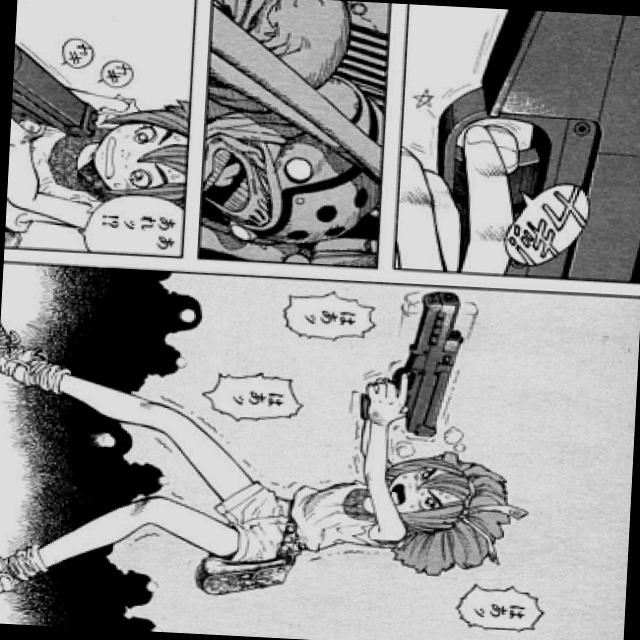handgun: (355, 291, 482, 439)
